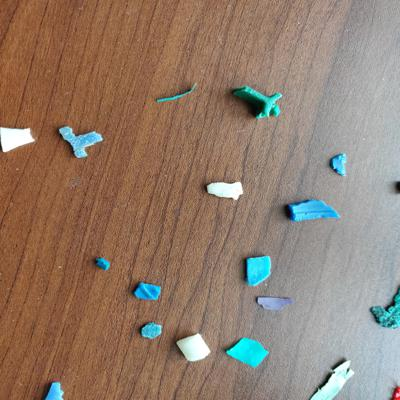plastic: (299, 351, 358, 400), (227, 82, 289, 123), (222, 334, 276, 371), (58, 122, 106, 163), (281, 197, 344, 225), (368, 283, 400, 335), (153, 78, 203, 107), (238, 254, 279, 289), (1, 120, 39, 156), (173, 332, 214, 364), (202, 178, 246, 206), (250, 294, 297, 314), (326, 149, 352, 184), (137, 316, 168, 345), (131, 281, 162, 306), (88, 255, 115, 274)
